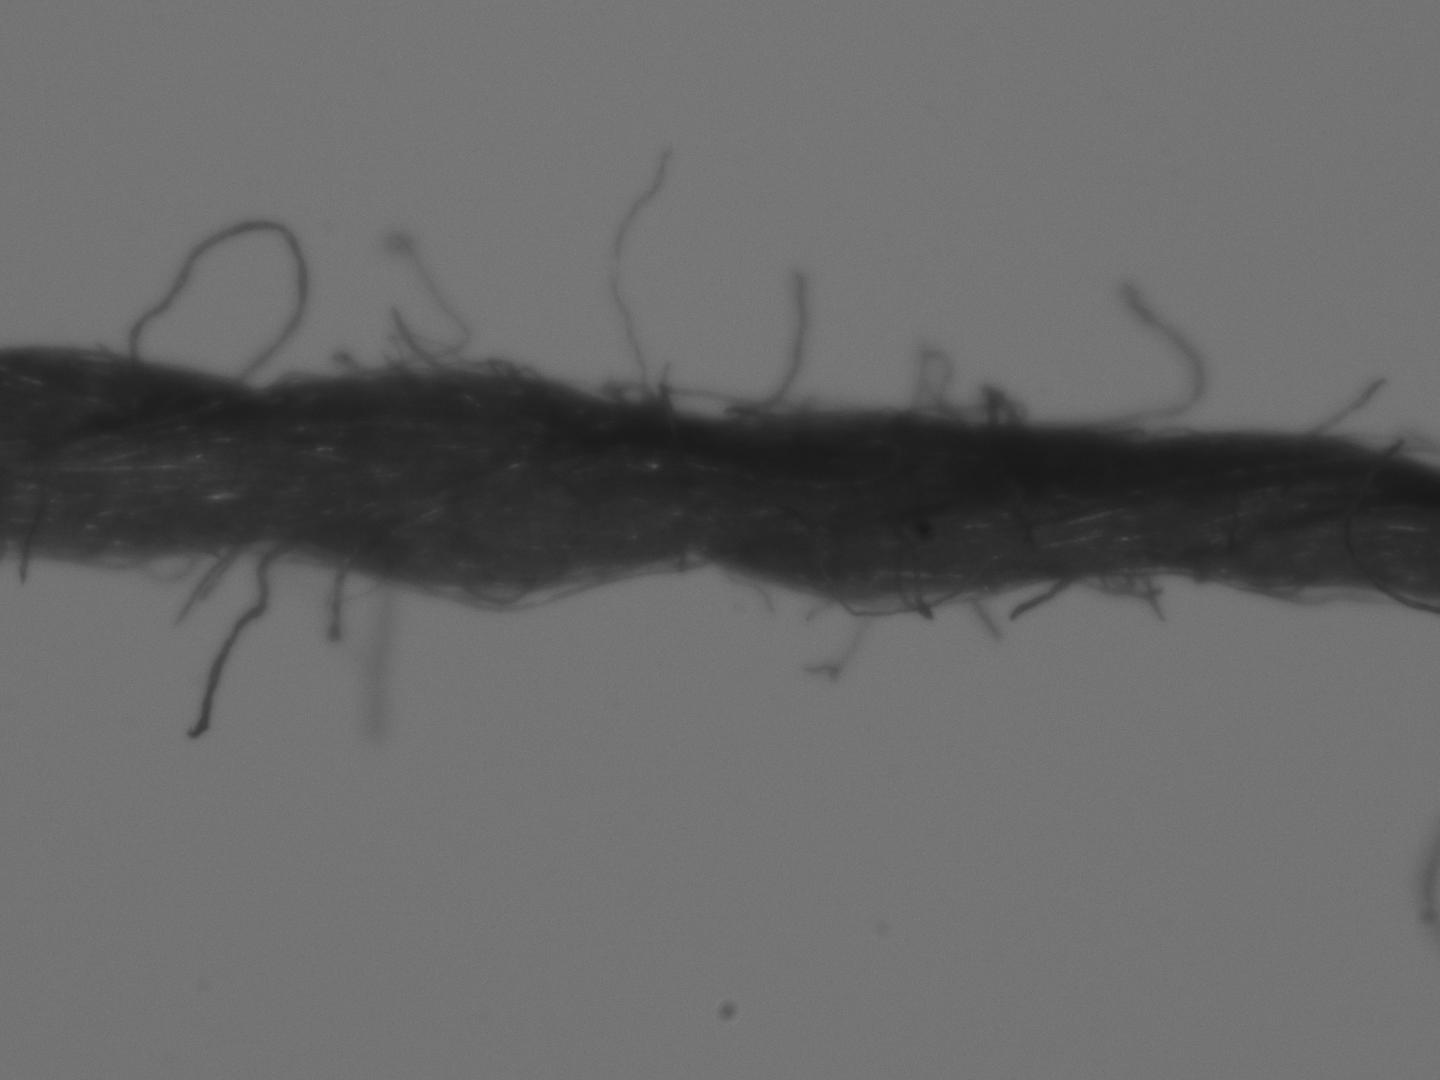loop_fiber: (125, 213, 312, 391), (752, 575, 1069, 624), (324, 314, 535, 379), (599, 376, 825, 428), (897, 351, 1025, 431)
protruding_fiber: (188, 537, 303, 734), (607, 141, 683, 411), (1076, 281, 1206, 437), (374, 233, 473, 382), (729, 261, 813, 419), (1297, 369, 1389, 445), (171, 545, 248, 634), (320, 549, 370, 655)
